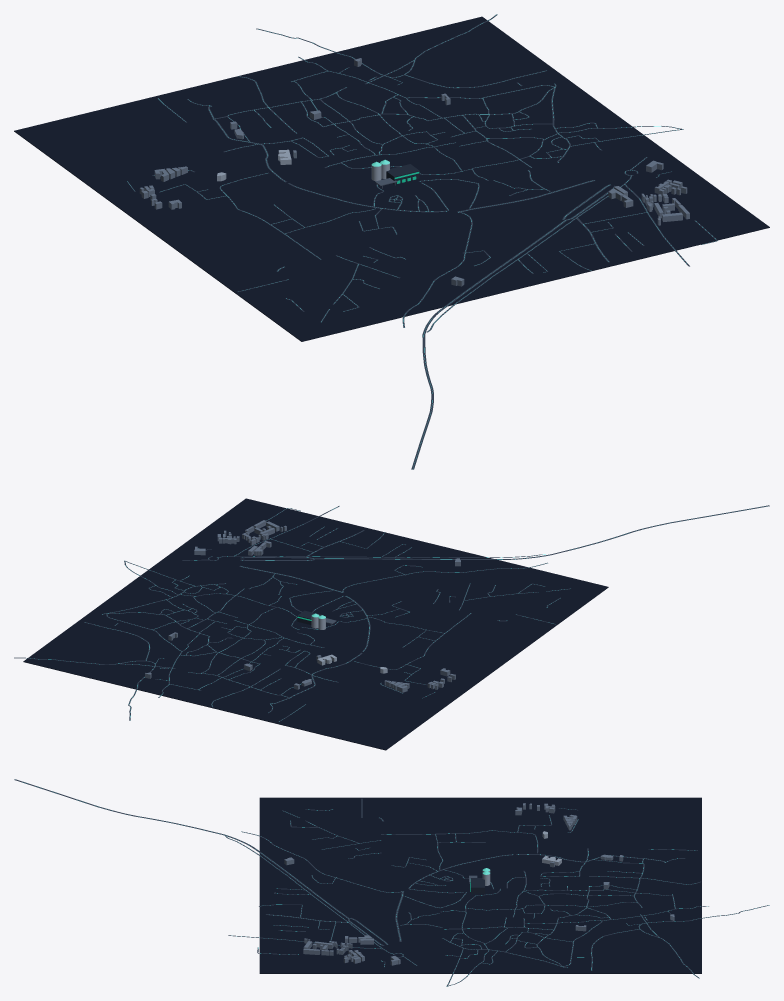
File: facility_nashik.glb
3 views of the same model, one above another, from view 1: azimuth 30°, elevation 25°; view 2: azimuth 150°, elevation 25°; view 3: azimuth 270°, elevation 25° (orthographic). The views are drawn at different scales.
Visible parts, largest first — view 1: GroundSlab, Road_357166877; view 2: GroundSlab, Road_357166877; view 3: GroundSlab, Road_357166877.
Part boxes in pixels (x1,y1,x2,y2): GroundSlab: [14, 16, 769, 341]; Road_357166877: [411, 220, 566, 469]; GroundSlab: [23, 498, 608, 750]; Road_357166877: [314, 505, 769, 559]; GroundSlab: [259, 797, 701, 973]; Road_357166877: [14, 779, 349, 918].
Size of the model in its own units: 8.72 by 0.2694 by 13.41.
